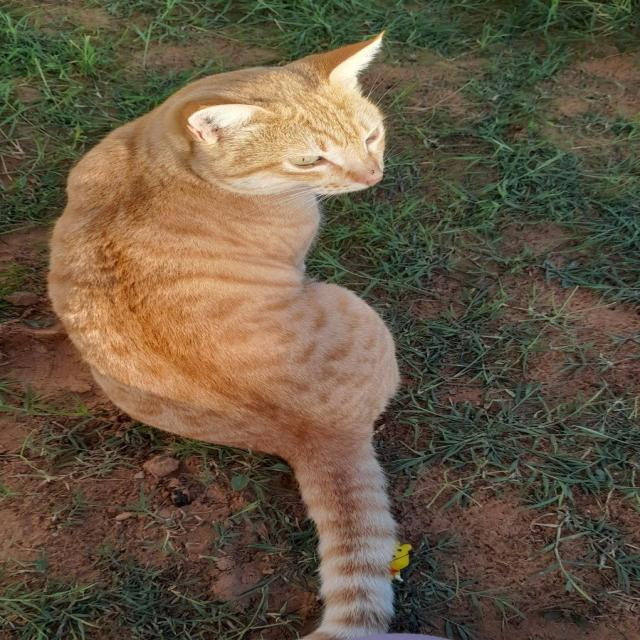sarman: (42, 63, 640, 640)
